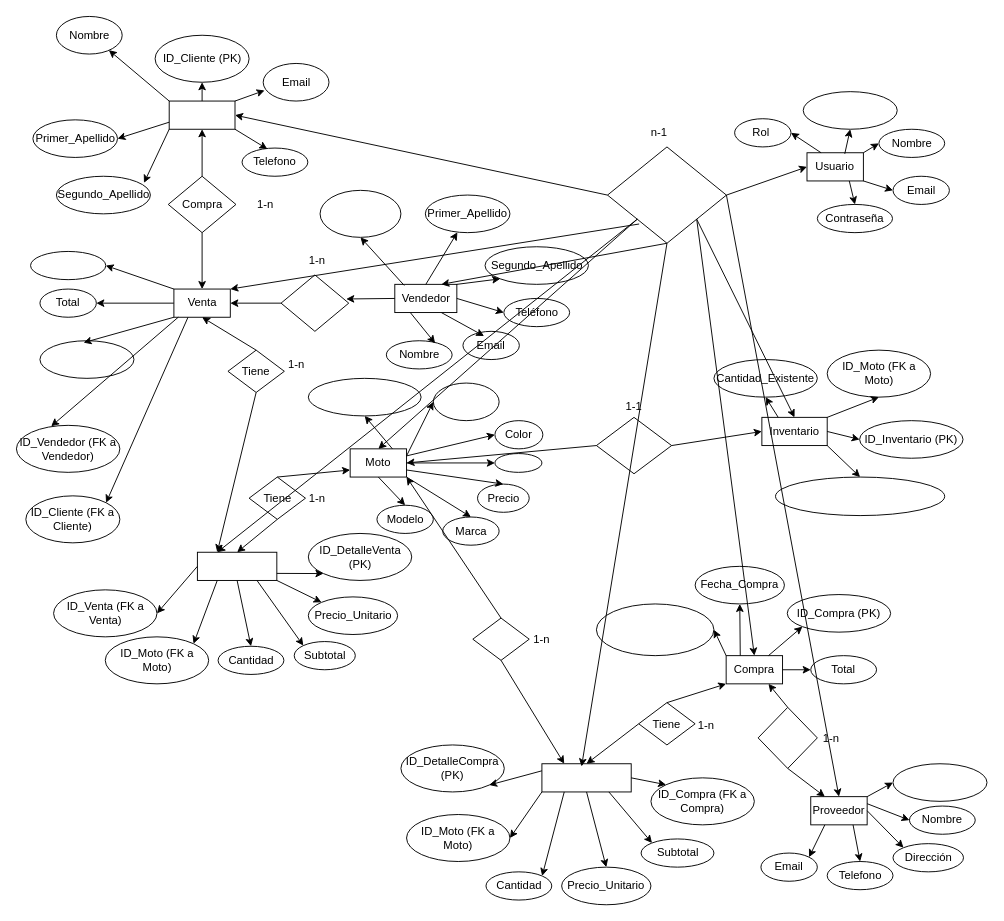
Some shapes in this 1004 by 921 pixel diagram are drawn without their labels. Here are the shapes that lost their labels. From the top down, the box of each, then its label:
(168, 100, 235, 129): Cliente
(802, 91, 897, 129): ID_Usuario (PK)
(319, 189, 401, 237): ID_Vendedor (PK)
(607, 146, 726, 243): Created_by Deleted_by Updated_by
(30, 251, 106, 280): Fecha_Venta
(280, 274, 349, 331): Registra
(39, 340, 134, 378): ID_Venta (PK)
(307, 377, 421, 416): Cantidad_Disponible
(432, 382, 499, 421): ID_Moto (PK)
(494, 453, 542, 472): Año
(595, 416, 672, 474): Pertenece
(775, 476, 945, 516): Fecha_Ultima_Actualizacion
(196, 551, 277, 580): Detalle_Venta
(472, 617, 529, 660): Aparece
(595, 603, 714, 656): ID_Proveedor (FK a Proveedor)
(757, 706, 817, 768): Abastece
(541, 763, 631, 792): Detalle_Compra
(892, 763, 987, 801): ID_Proveedor (PK)
